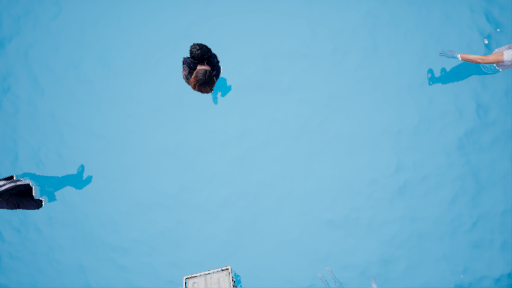person: (1, 160, 100, 220), (179, 42, 239, 111)
